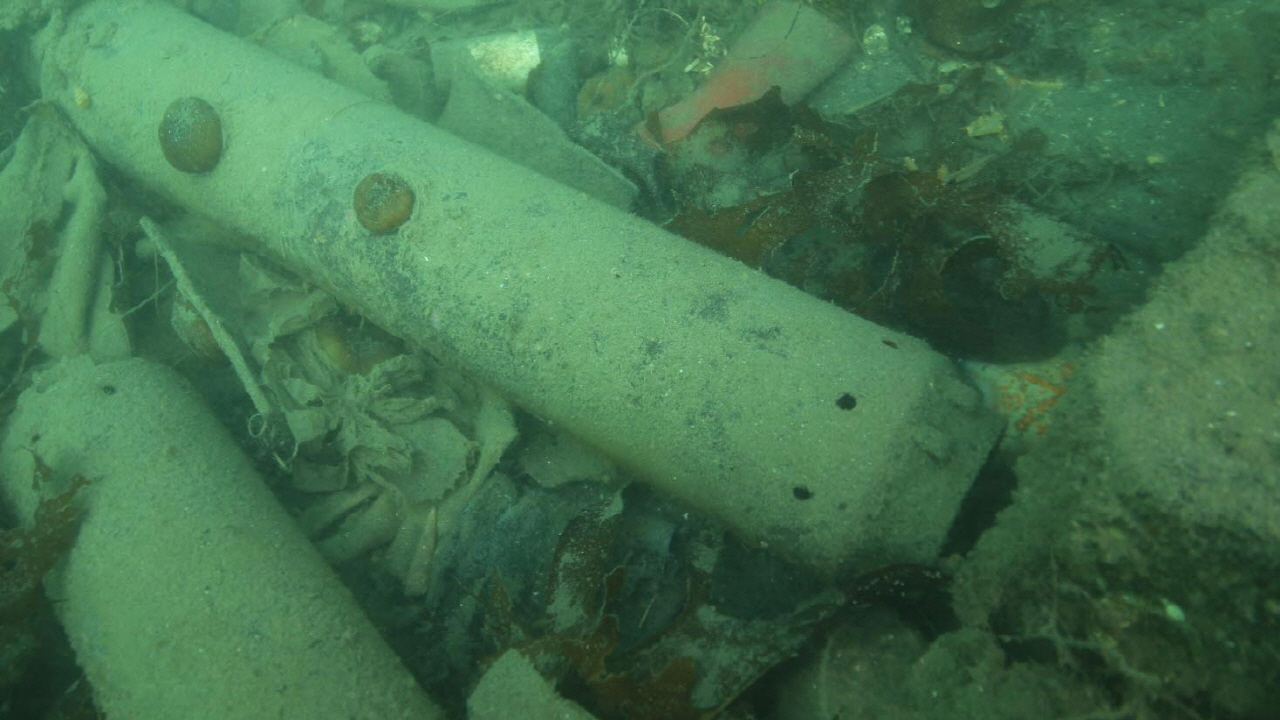eel fish trap: (40, 0, 1008, 585), (0, 353, 450, 720)
